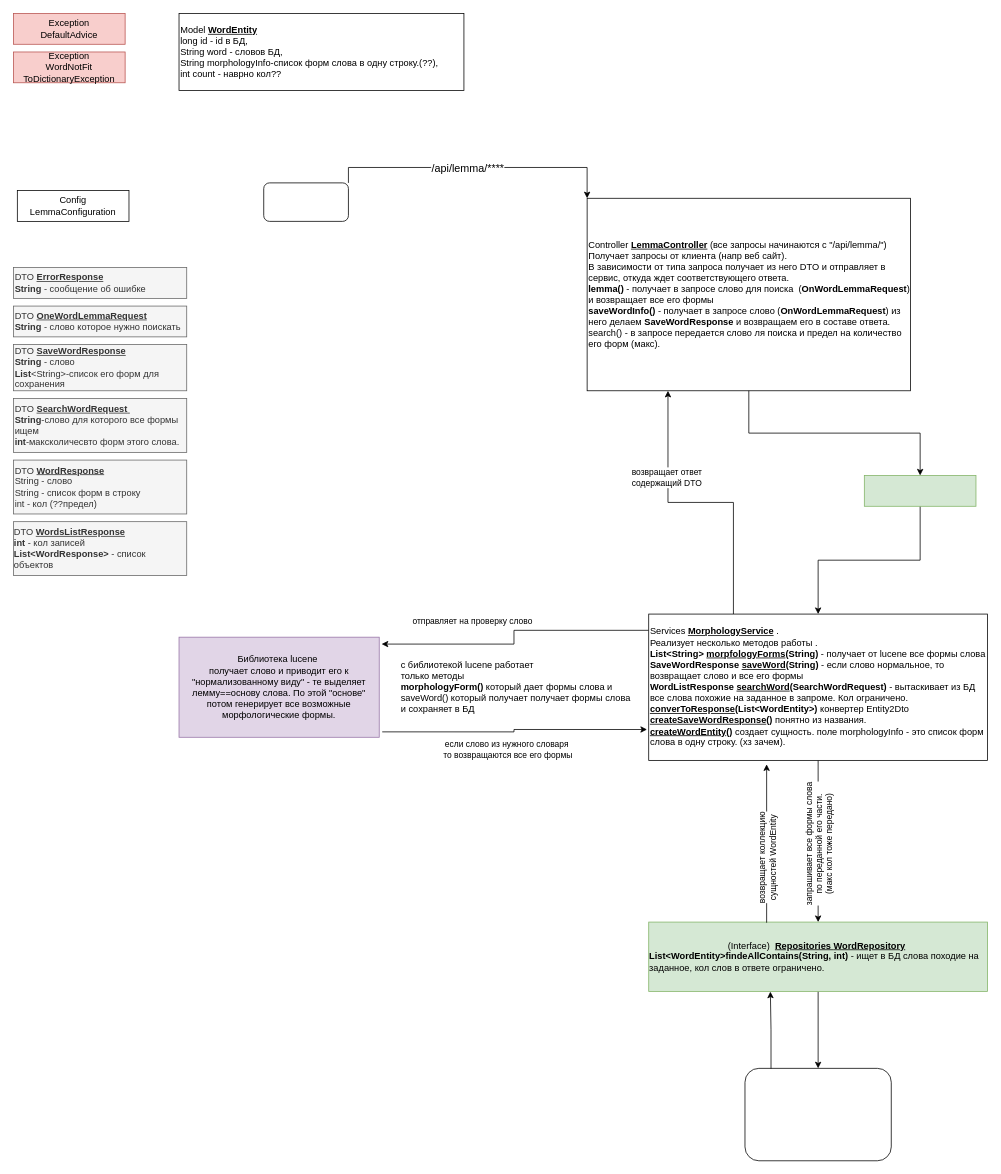
Image size: 1001x1174. Some labels were removed from this diagram. Each missing label, with the centre of its shape:
"(Interface) Services MorphologyServiceImpl" goes at pixel 920 490.
"WEB" goes at pixel 305 201.
"БАЗА ДАННЫХ" goes at pixel 817 1114.
